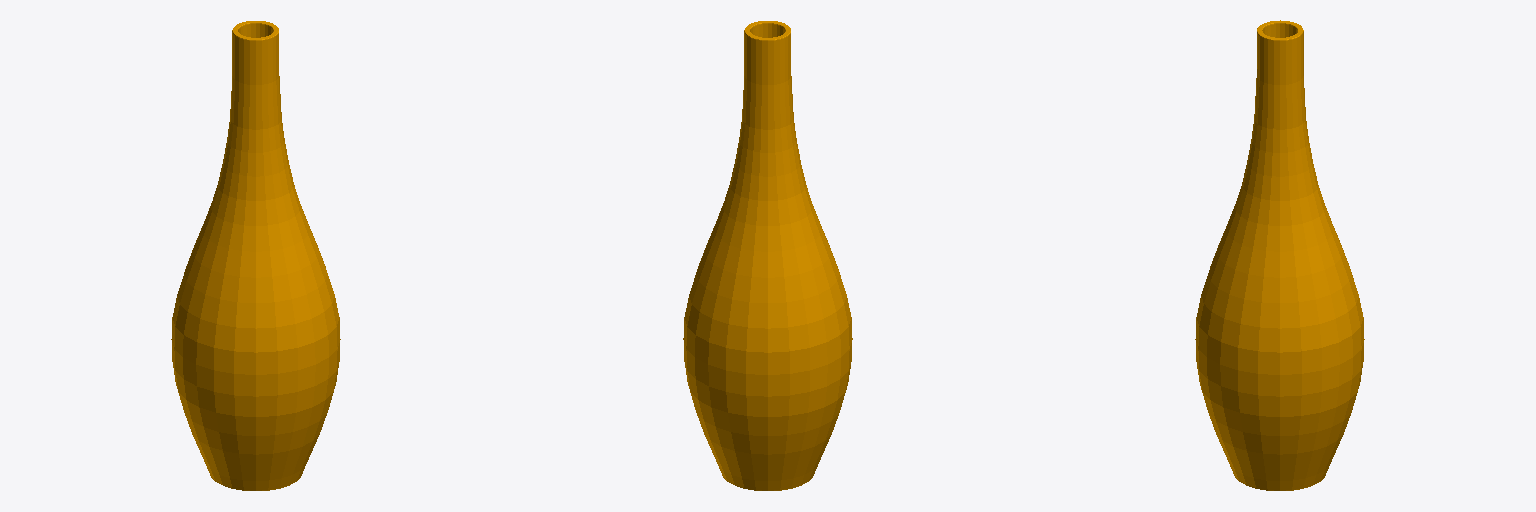
URDF robot description (apple):
<?xml version="0.0" ?>
<robot name="apple">
  <link name="baseLink">
    <contact>
      <lateral_friction value="1.0"/>
      <rolling_friction value="0.0"/>
      <contact_cfm value="0.0"/>
      <contact_erp value="1.0"/>
    </contact>
    <inertial>
      <origin rpy="1.57 0 0" xyz="0.0 0.0 0.0"/>
       <mass value=".1"/>
       <inertia ixx="1" ixy="0" ixz="0" iyy="1" iyz="0" izz="1"/>
    </inertial>
    <visual>
      <origin rpy="1.57 0 0" xyz="0 0 0"/>
      <geometry>
        <mesh filename="meshes/notextures/Vase01.obj" scale="0.01 0.01 0.01"/>
      </geometry>

    </visual>
    <collision>
      <origin rpy="1.57 0 0" xyz="0 0 0"/>
      <geometry>
	 	<mesh filename="meshes/notextures/Vase01.obj" scale="0.01 0.01 0.01"/>
      </geometry>
    </collision>
  </link>
</robot>

--- Render facts (derived) ---
3 views of the same robot in one strip: view 1: azimuth 30°, elevation 25°; view 2: azimuth 150°, elevation 25°; view 3: azimuth 270°, elevation 25° (orthographic).
Model apple with 1 links and 0 joints (none), rooted at baseLink, posed all joints at 0.
Visible links, largest first — view 1: baseLink; view 2: baseLink; view 3: baseLink.
Boxes of the visible links, x1,y1,x2,y2 form: baseLink: [171, 21, 340, 490]; baseLink: [683, 21, 852, 490]; baseLink: [1195, 20, 1364, 490].
Bounding box of the posed robot: 0.104 × 0.104 × 0.3 m (x, y, z).
1 mesh visuals loaded from 1 distinct referenced files (1 OBJ).